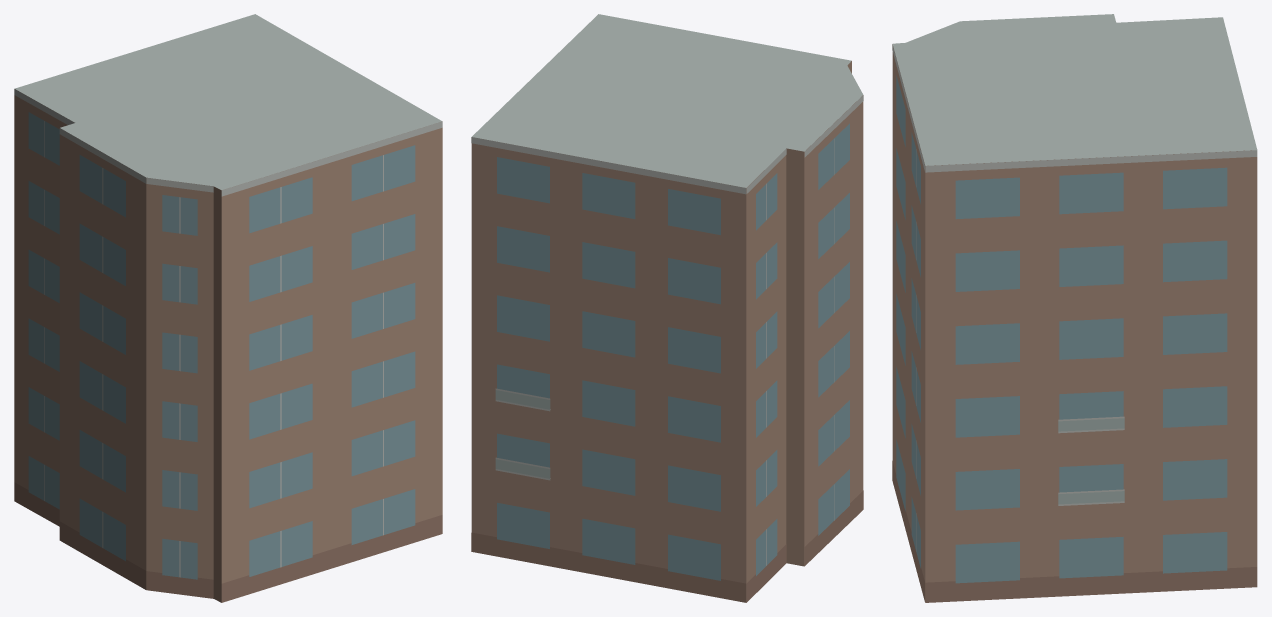
The model's file is survey-upis-32882757.glb.
3 views of the same model, side by side, from view 1: azimuth 30°, elevation 25°; view 2: azimuth 150°, elevation 25°; view 3: azimuth 270°, elevation 25° (orthographic). The views are drawn at different scales.
Parts seen in each view (by area): view 1: survey-upis-32882757.tmp; view 2: survey-upis-32882757.tmp; view 3: survey-upis-32882757.tmp.
Boxes of the visible parts, <box> form: survey-upis-32882757.tmp: <box>14,14,442,602</box>; survey-upis-32882757.tmp: <box>471,14,863,602</box>; survey-upis-32882757.tmp: <box>892,14,1257,602</box>.
Bounding box in the file's own units: 11.86 × 15.9 × 12.04.
